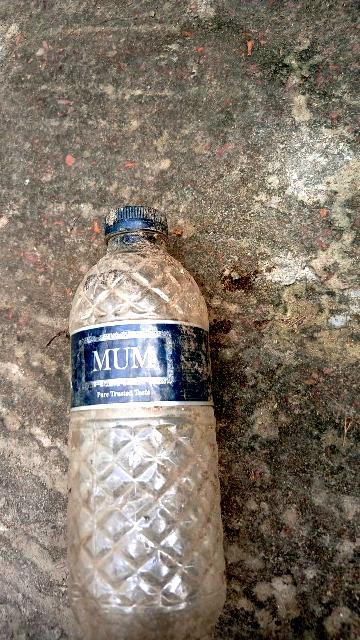bottle: (69, 215, 244, 640)
